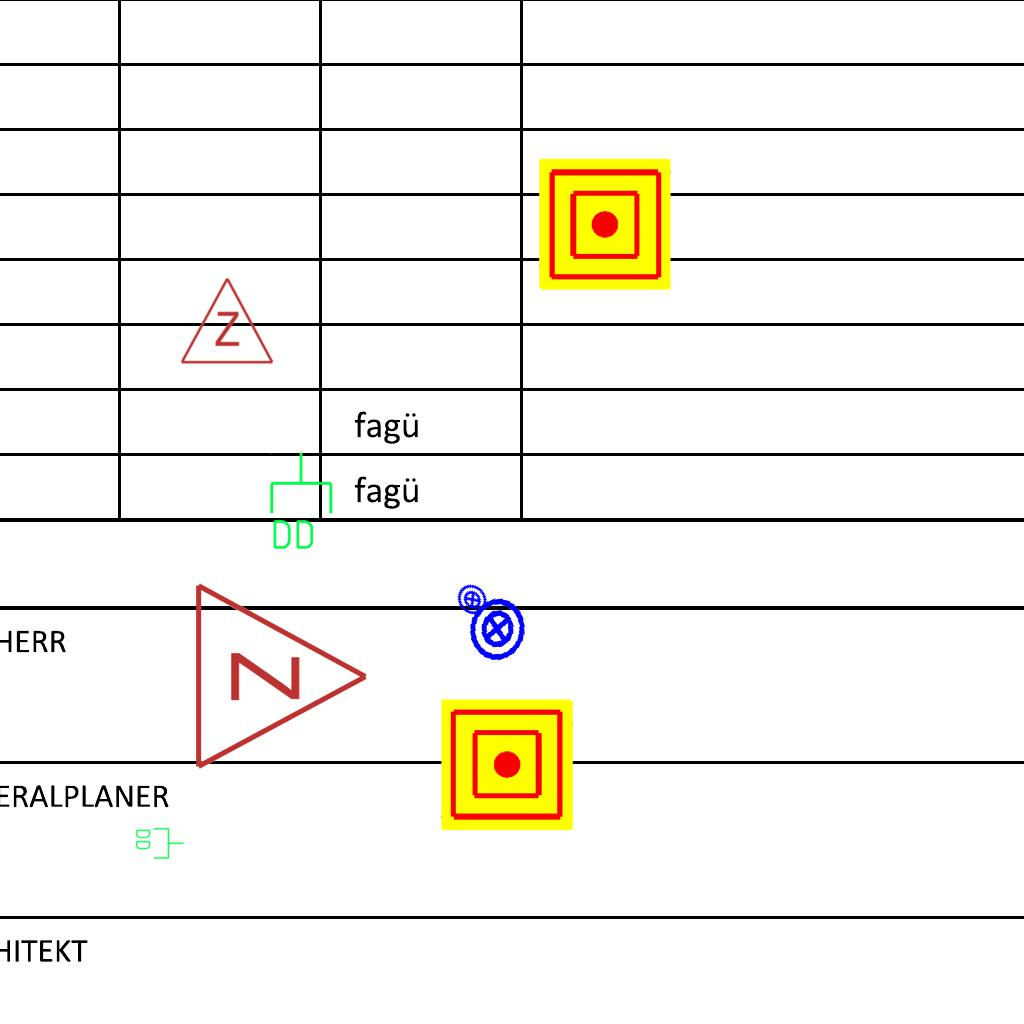Datenanschluss_zweifach: (266, 450, 335, 553), (134, 826, 185, 860)
NAM-Nichtautomatischer_Melder: (441, 699, 573, 831), (539, 158, 671, 290)
Taster_beleuchtet: (459, 591, 535, 667), (449, 576, 496, 623)
Zimmersignalleuchte: (181, 576, 381, 772), (177, 271, 275, 371)
